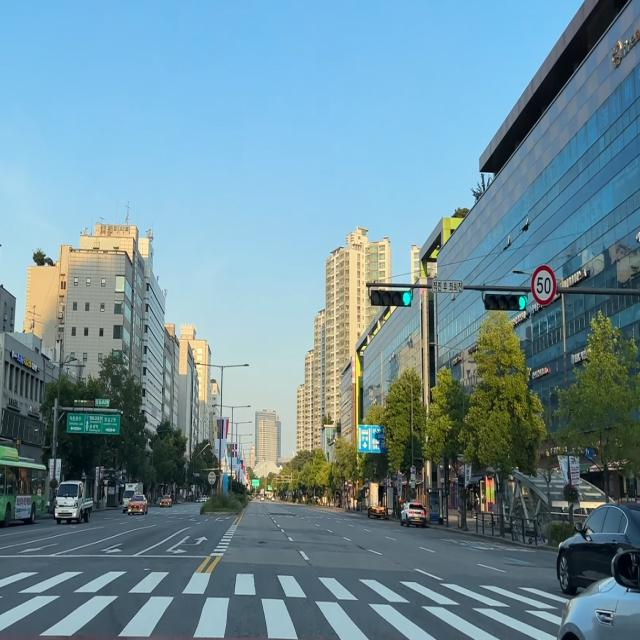Green Light: (516, 293, 526, 311), (401, 290, 411, 306)
